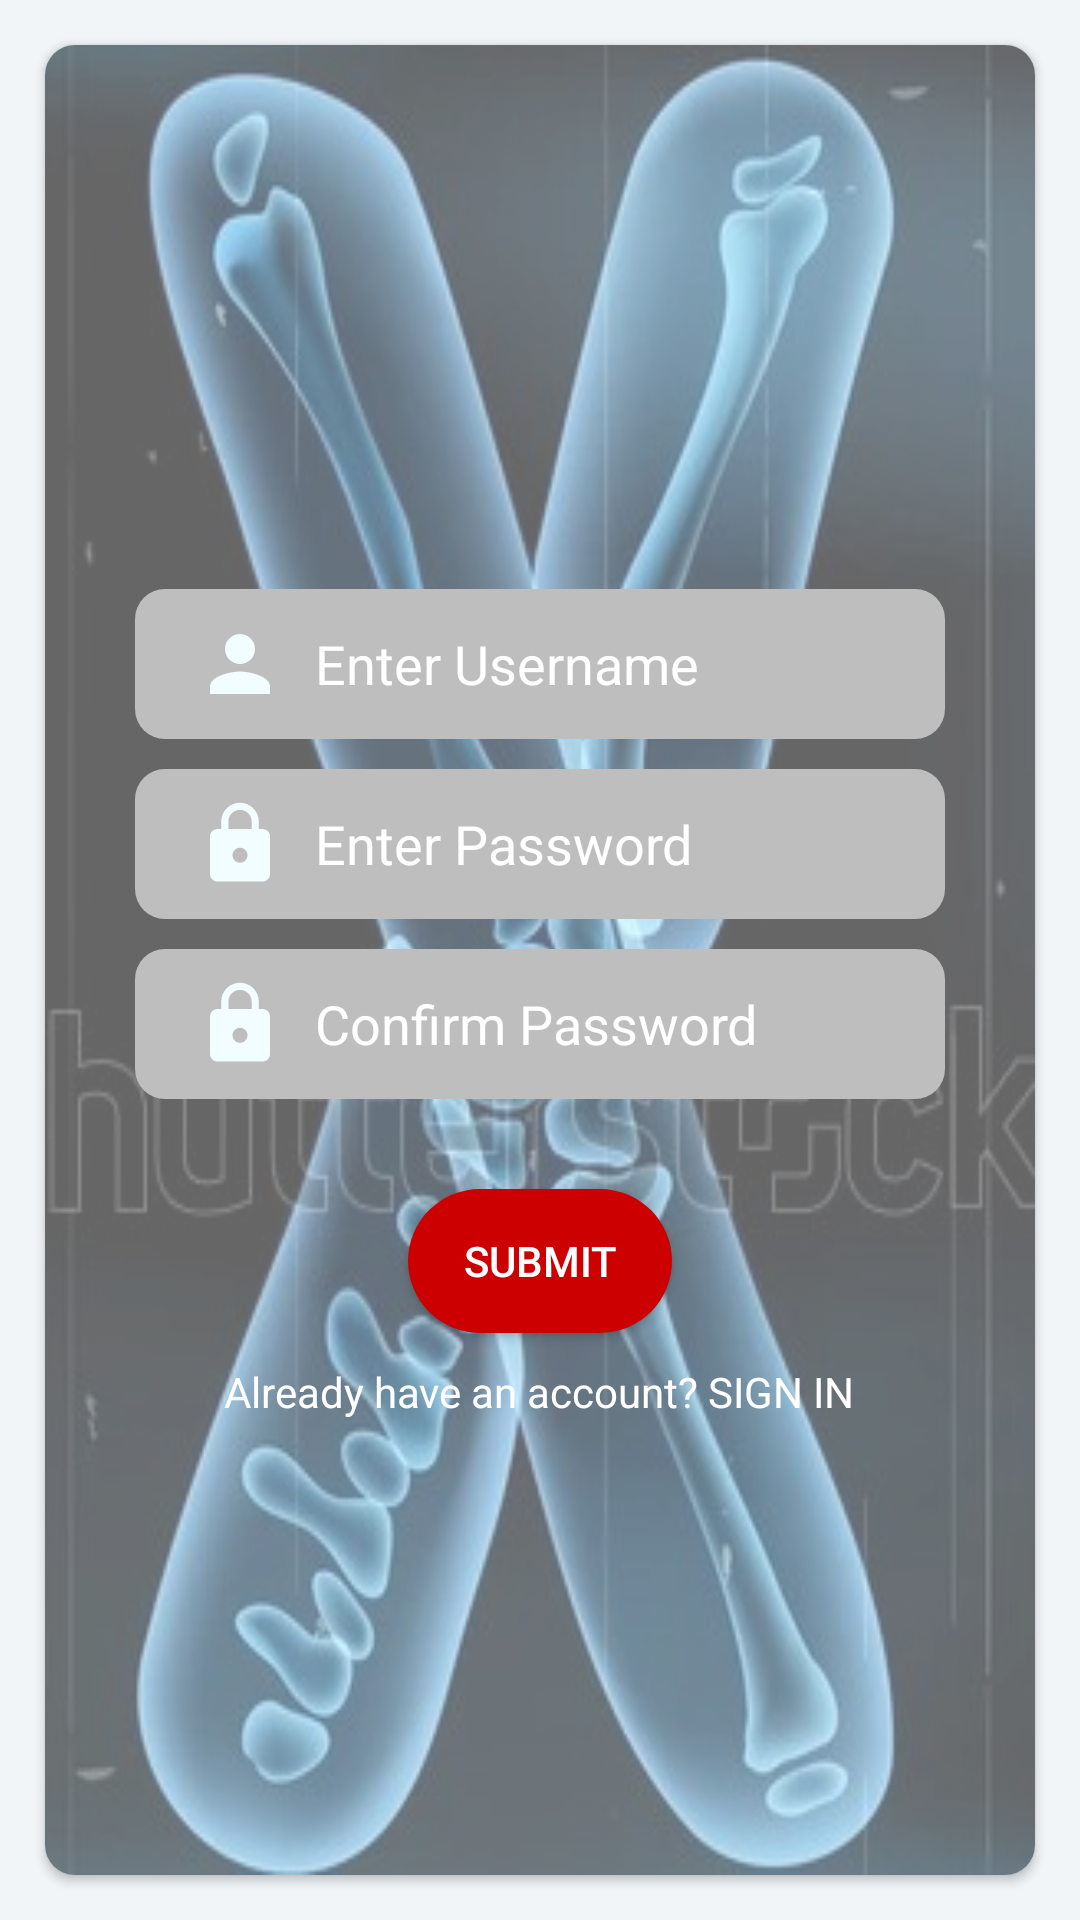

Screen size 1080×1920. Icon name, then its box in pixels as region(x1, y1, x2, y2):
lock: region(210, 803, 270, 882), region(210, 983, 270, 1062)
person: region(210, 634, 270, 694)
